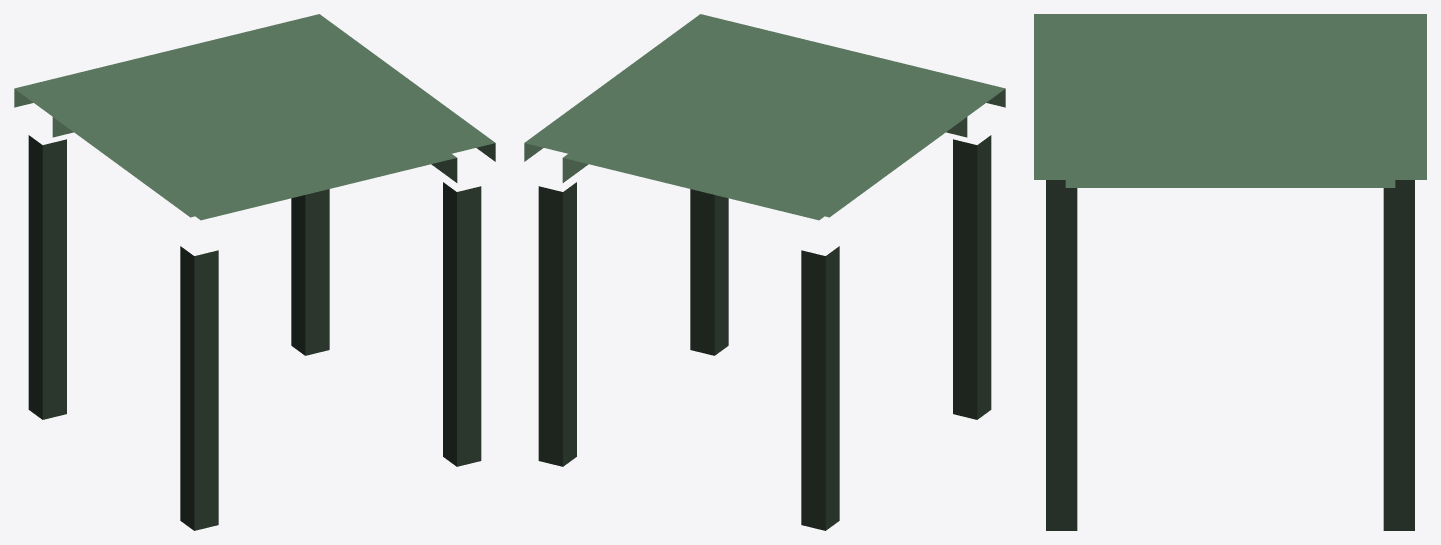
File: Table-green.glb
The picture shows the model from 3 angles, left to right: view 1: azimuth 30°, elevation 25°; view 2: azimuth 150°, elevation 25°; view 3: azimuth 270°, elevation 25°; orthographic projection. The views are drawn at different scales.
Visible parts, largest first — view 1: Table; view 2: Table; view 3: Table.
Boxes of the visible parts, x1,y1,x2,y2 form: Table: (14, 14, 495, 530); Table: (524, 14, 1005, 530); Table: (1034, 14, 1426, 530).
Bounding box in the file's own units: 1 × 1 × 1.
